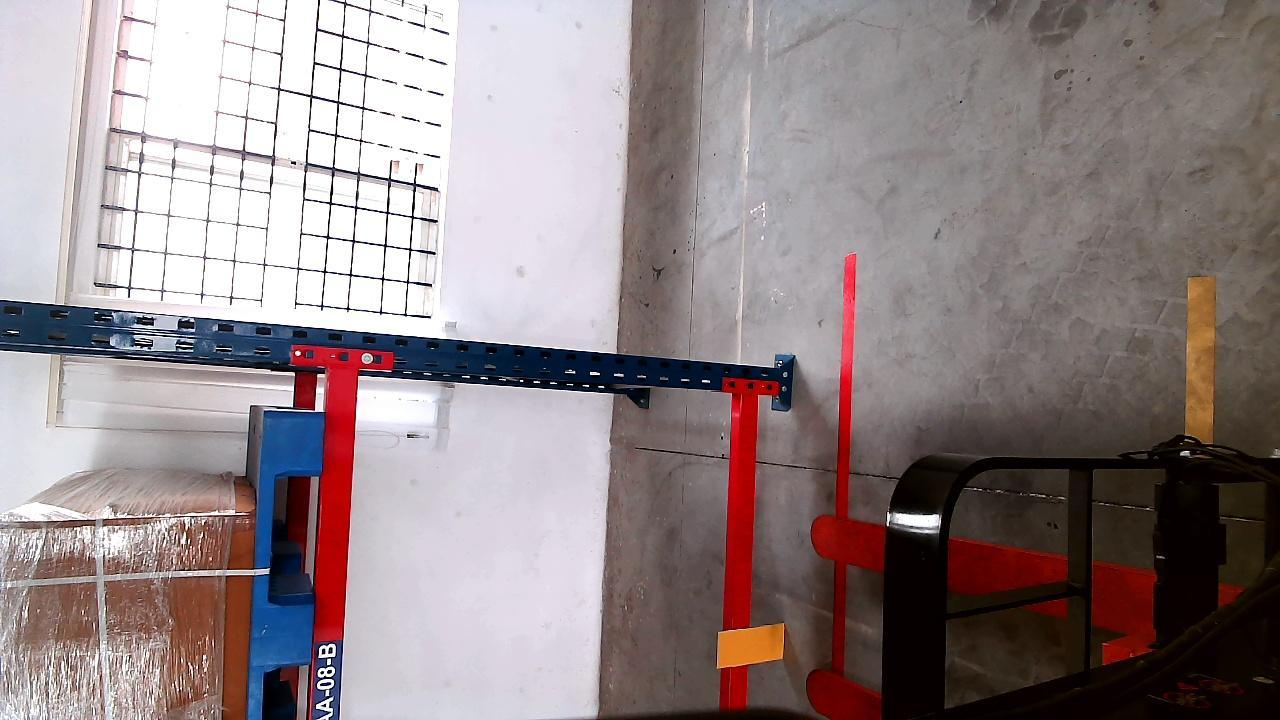red_line: (834, 252, 854, 676)
yellow_line: (1184, 277, 1217, 451)
